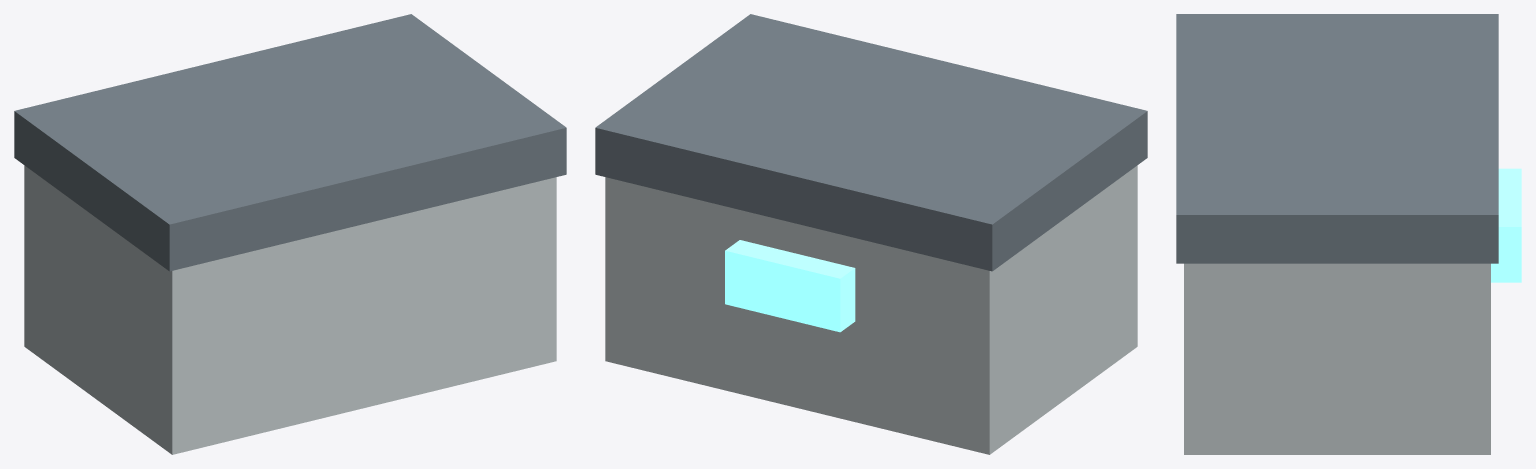
The model's file is np_z03_medical_bac.glb.
3 views of the same model, side by side, from view 1: azimuth 30°, elevation 25°; view 2: azimuth 150°, elevation 25°; view 3: azimuth 270°, elevation 25° (orthographic). The views are drawn at different scales.
Parts seen in each view (by area): view 1: Corps, Couvercle; view 2: Corps, Couvercle, Poignee; view 3: Couvercle, Corps, Poignee.
Part boxes in pixels (x1,y1,x2,y2): Corps: (24, 165, 556, 454); Couvercle: (14, 14, 566, 271); Corps: (605, 165, 1137, 454); Couvercle: (595, 14, 1147, 271); Poignee: (725, 240, 855, 332); Couvercle: (1176, 14, 1498, 263); Corps: (1184, 263, 1490, 454); Poignee: (1491, 168, 1521, 282).
Size of the model in its own units: 0.62 by 0.35 by 0.45.
